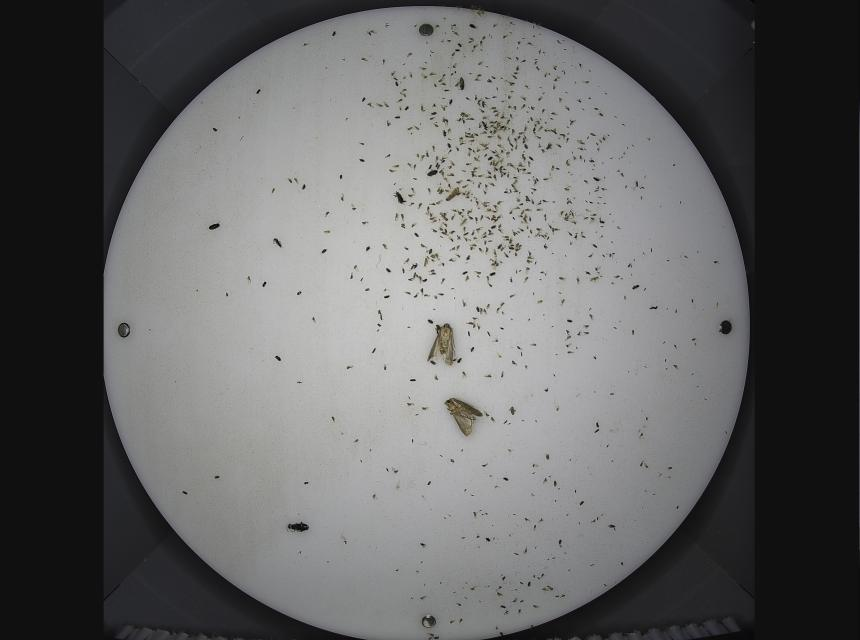insect: (286, 519, 311, 537), (207, 220, 223, 232), (395, 190, 405, 204), (425, 170, 440, 177)
moth: (444, 397, 482, 436), (428, 321, 455, 367)
skeeter: (412, 124, 419, 130), (382, 102, 389, 108), (559, 275, 566, 281), (418, 66, 426, 71), (485, 373, 492, 378), (429, 72, 437, 76), (510, 292, 515, 298), (536, 207, 543, 211)
